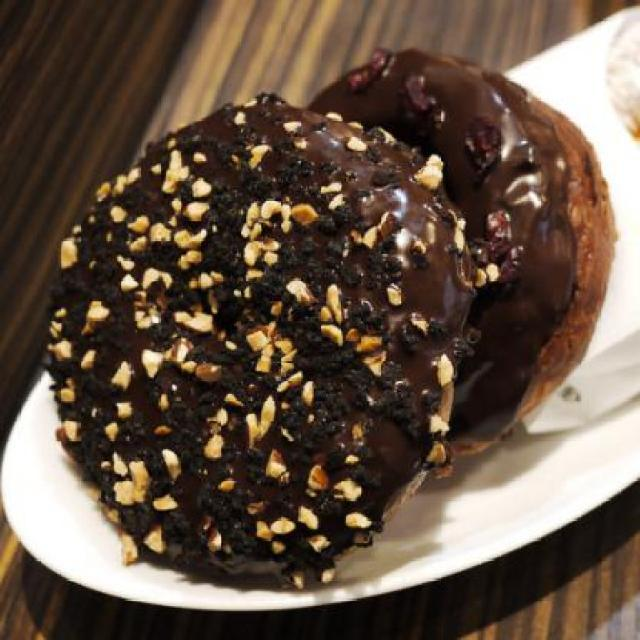Donuts: (27, 48, 610, 604)
